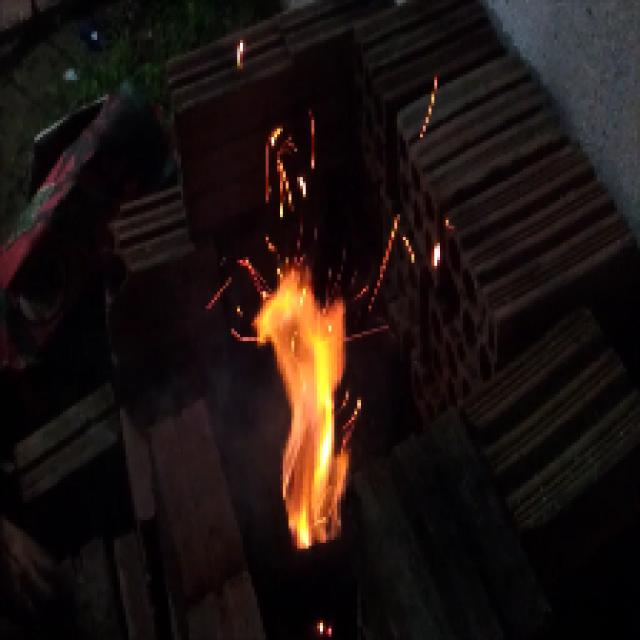fire: (218, 245, 379, 553)
